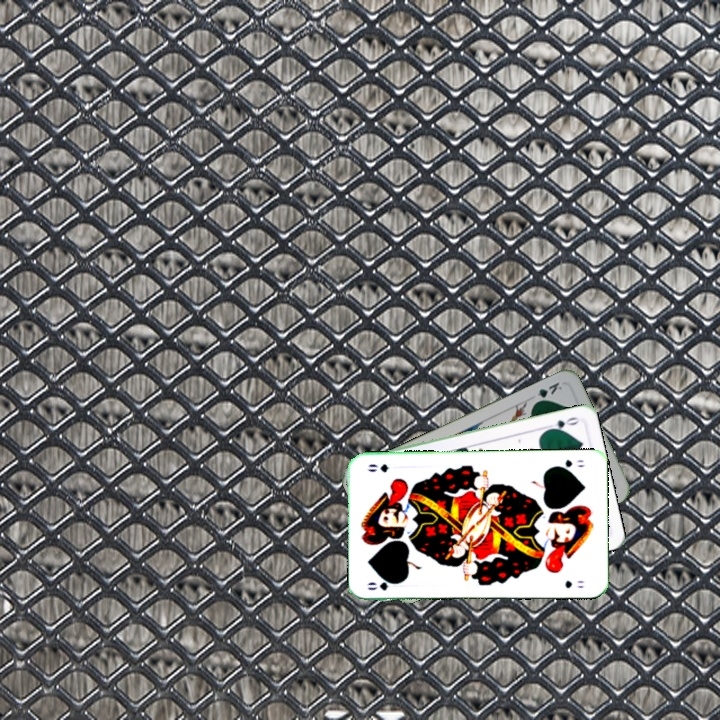GK: (529, 378, 565, 407)
GO: (543, 413, 582, 433), (363, 576, 404, 593), (550, 455, 587, 473)
